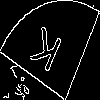K: (24, 25, 64, 83)
